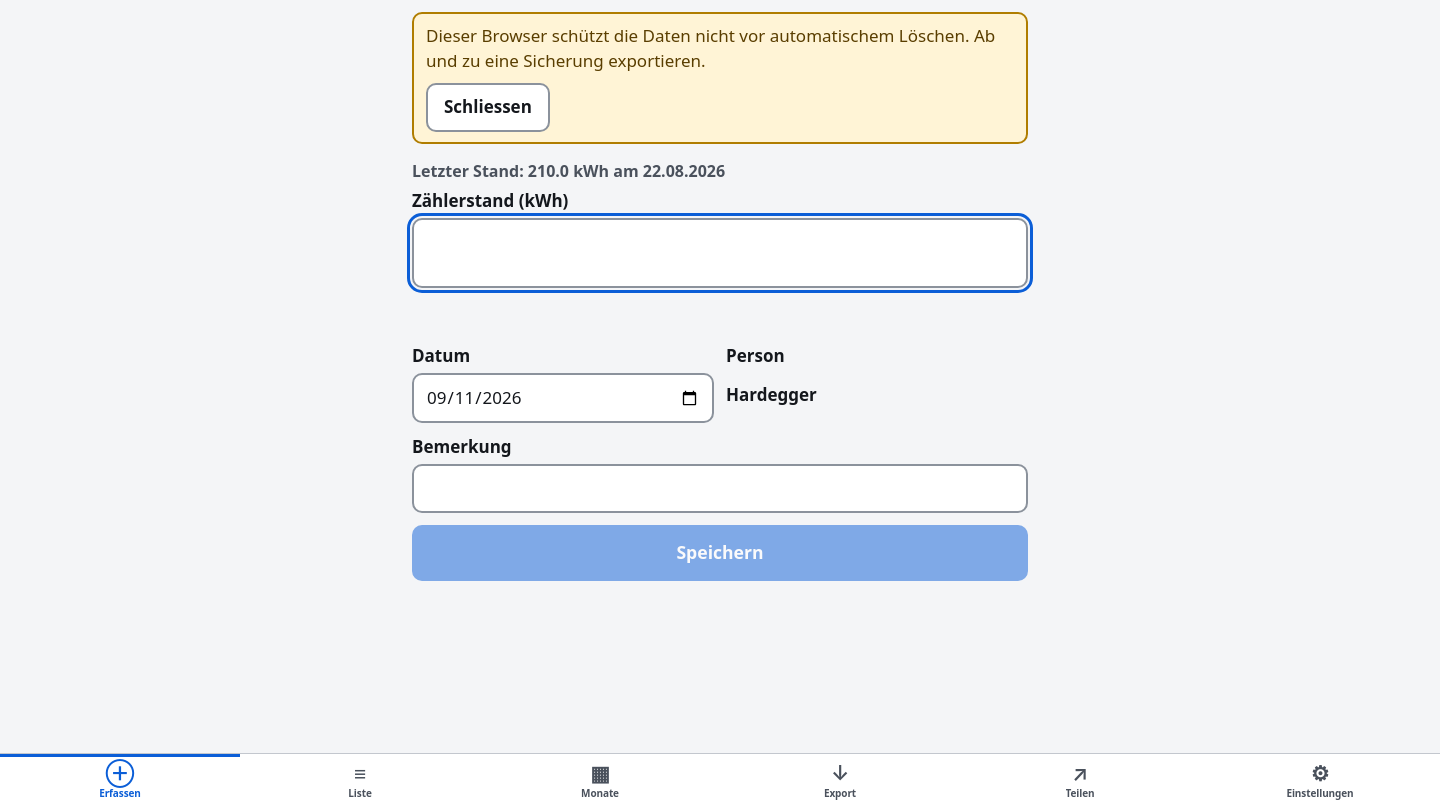
it: editing a reading (FR-4.2) › opens an editor prefilled with the reading
Step 1. Click the button "≡ Liste" → {"x": 360, "y": 782}, box top-left (240, 754), bottom-right (480, 809)
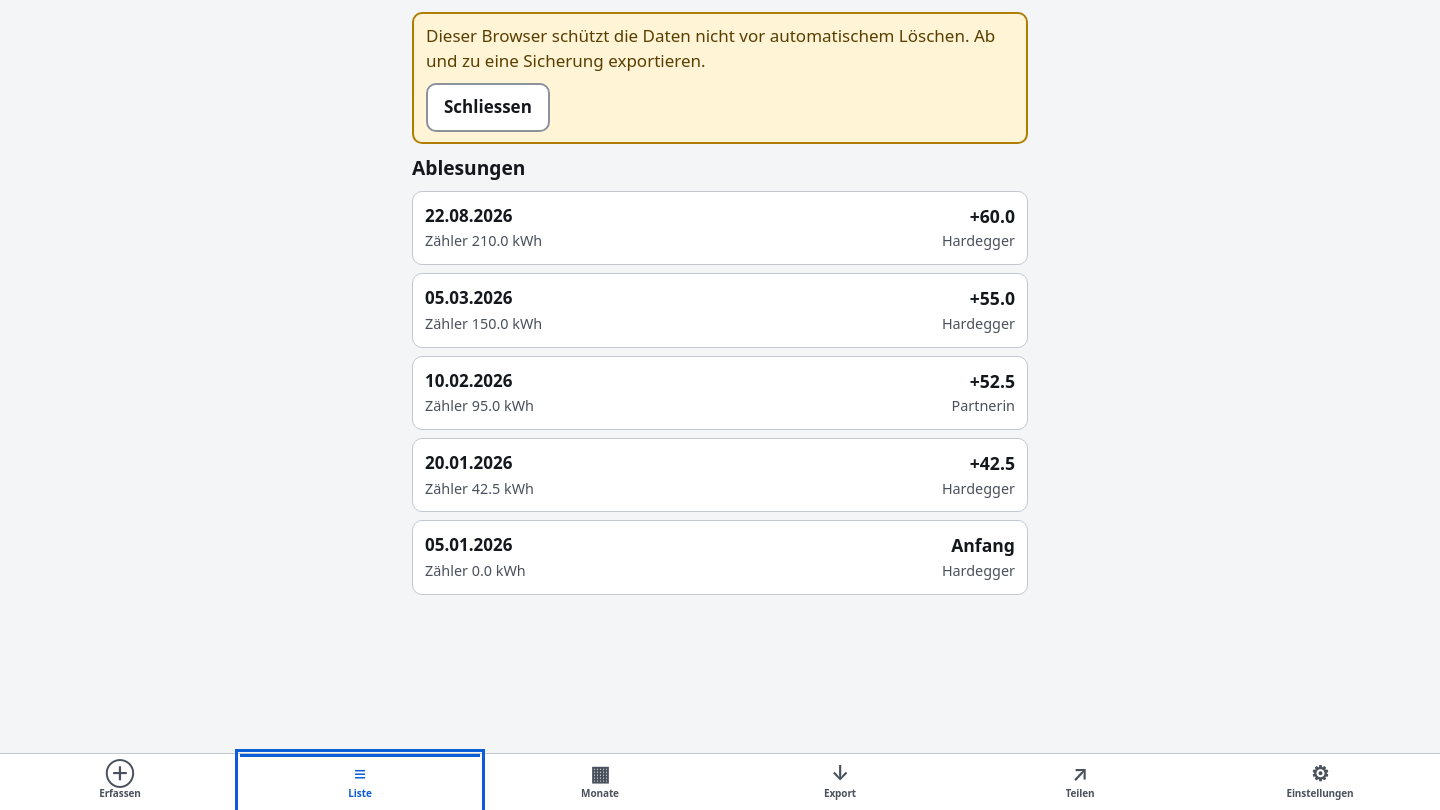
Step 2. Click the button "05.03.2026 +55.0 Zähler 150.0 kWh Hardegger" → {"x": 469, "y": 298}, box top-left (412, 273), bottom-right (1028, 348)
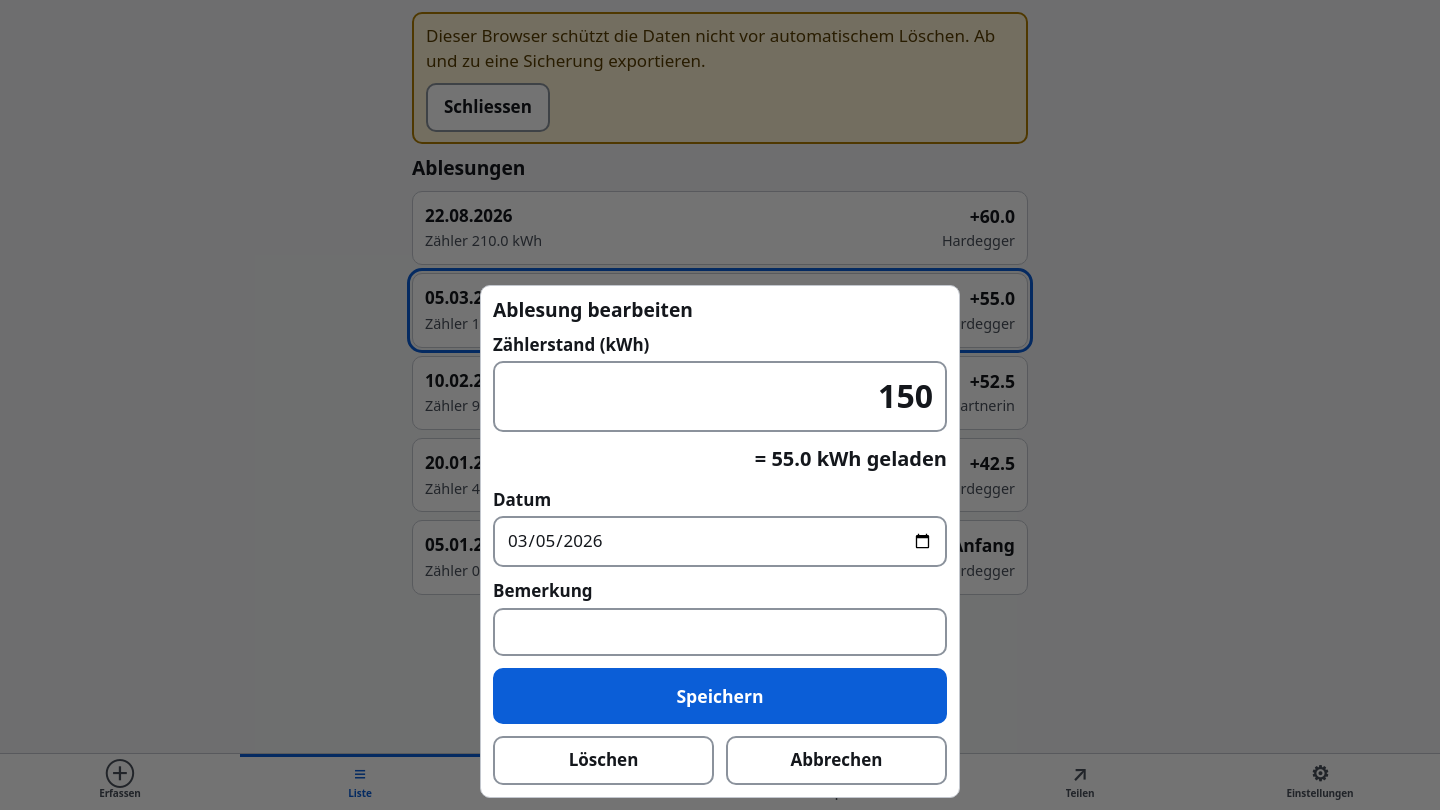
Check: the field labelled "Zählerstand (kWh)" holds "150", box top-left (493, 361), bottom-right (947, 432)
Check: the date field labelled "Datum" holds "2026-03-05", box top-left (493, 516), bottom-right (947, 567)
